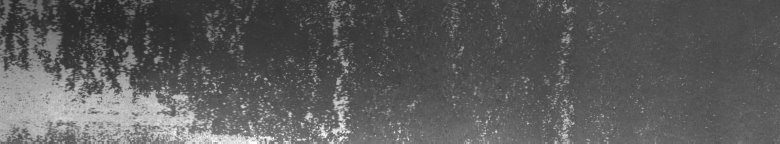kb: (4, 4, 608, 136)
